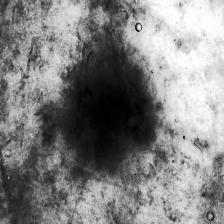Benign Marking or Mole: (64, 69, 154, 164)
